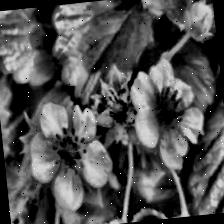Blossom Blight: (45, 123, 93, 180), (149, 84, 187, 134), (102, 86, 134, 131)
